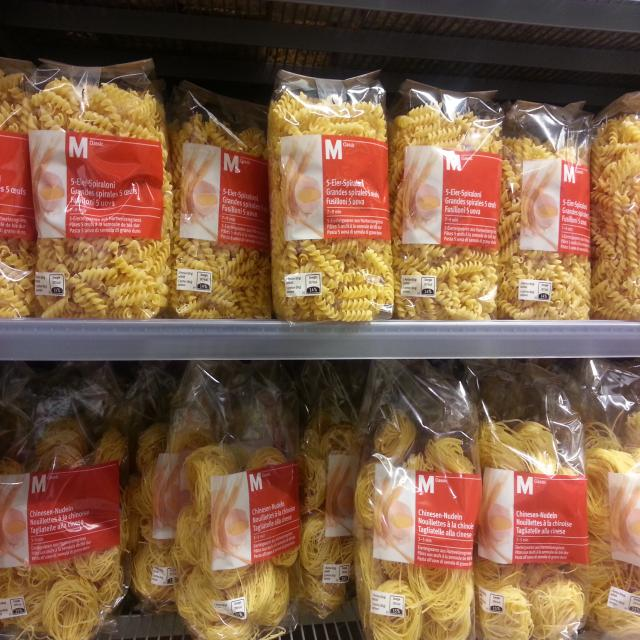Pasta: (18, 62, 176, 318), (350, 353, 490, 640), (173, 360, 303, 640), (470, 352, 590, 640), (1, 368, 128, 640), (268, 59, 394, 323), (388, 75, 503, 318), (172, 83, 275, 315), (498, 88, 591, 320), (578, 347, 640, 640), (296, 357, 361, 624), (586, 90, 640, 315)
